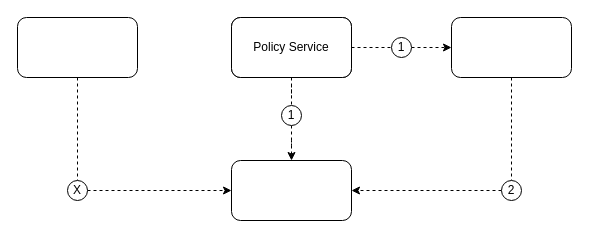
Some shapes in this 589 by 238 pixel diagram are drawn without their labels. Each missing label, with the centre of its shape:
Billing Service: (x=511, y=47)
Customer Service: (x=77, y=47)
Notification Service: (x=291, y=190)
